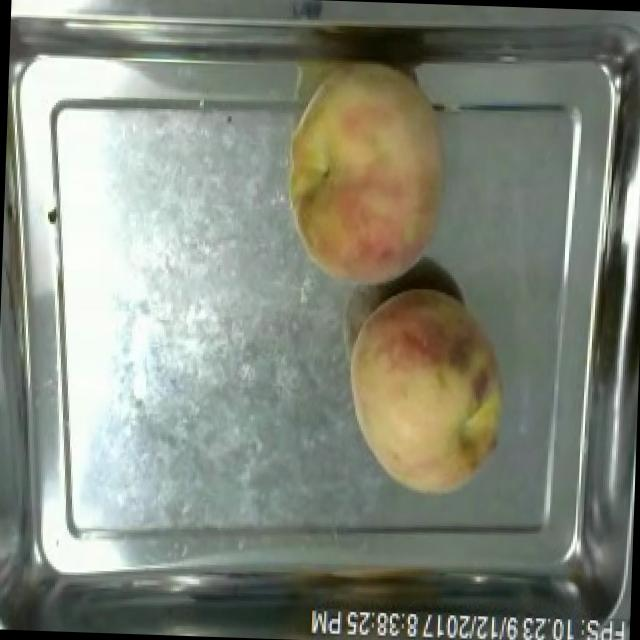Fruit: (273, 53, 459, 290), (340, 278, 518, 508)
